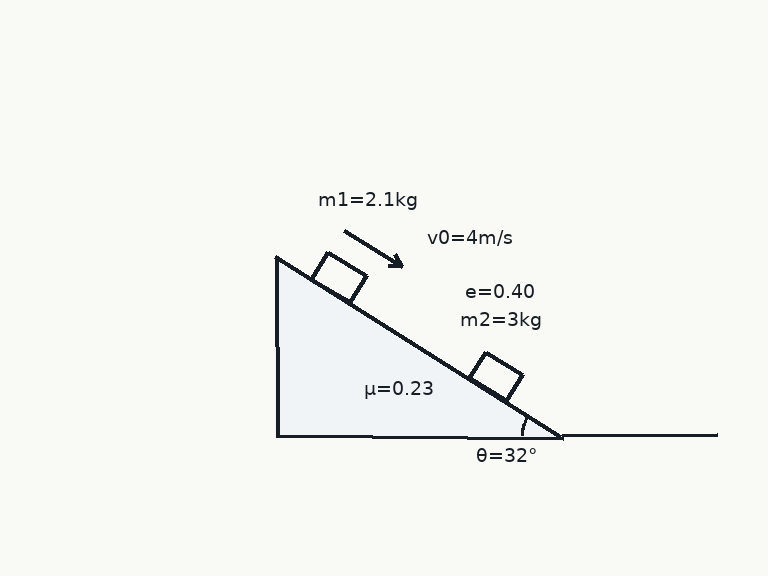block: (309, 250, 368, 305), (467, 350, 523, 402)
ramp: (273, 255, 564, 438)
